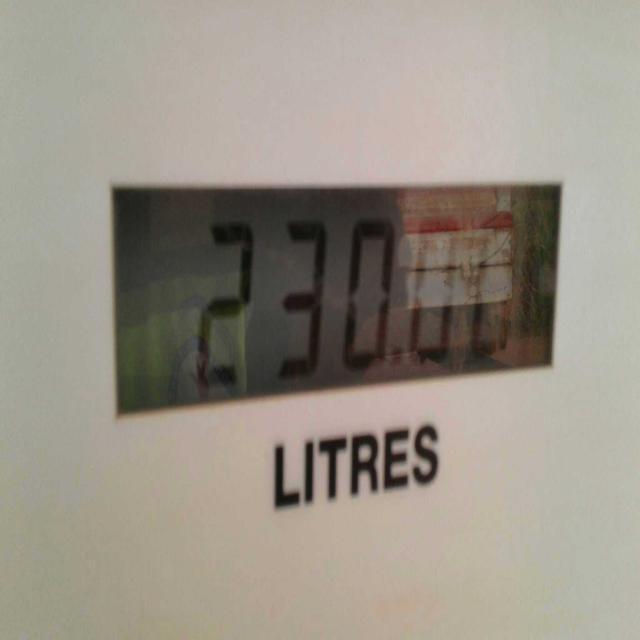.: (389, 333, 406, 378)
0: (336, 207, 400, 389), (409, 211, 462, 371), (471, 218, 523, 366)
2: (190, 210, 263, 391)
3: (271, 213, 334, 376)
